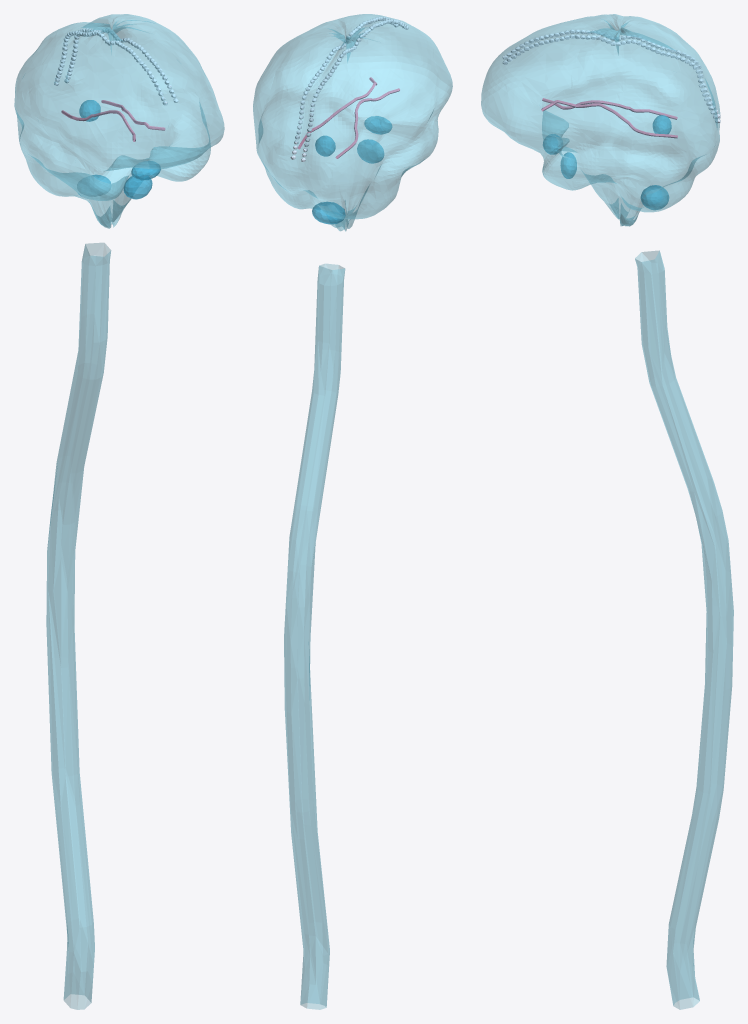
The model's file is bodyparts3d-brain-csf.glb.
3 views of the same model, side by side, from view 1: azimuth 30°, elevation 25°; view 2: azimuth 150°, elevation 25°; view 3: azimuth 270°, elevation 25° (orthographic). The views are drawn at different scales.
Parts seen in each view (by area): view 1: csf_shell, thecal_sac, cisterns, granulations, choroid; view 2: csf_shell, thecal_sac, cisterns, granulations, choroid; view 3: csf_shell, thecal_sac, granulations, cisterns, choroid.
Boxes of the visible parts, x1=… form: csf_shell: x1=14, y1=14, x2=224, y2=228; thecal_sac: x1=46, y1=243, x2=111, y2=1009; cisterns: x1=77, y1=100, x2=160, y2=199; granulations: x1=54, y1=28, x2=178, y2=105; choroid: x1=61, y1=100, x2=165, y2=141; csf_shell: x1=253, y1=14, x2=452, y2=231; thecal_sac: x1=284, y1=264, x2=345, y2=1009; cisterns: x1=312, y1=116, x2=391, y2=224; granulations: x1=290, y1=16, x2=408, y2=161; choroid: x1=298, y1=77, x2=399, y2=158; csf_shell: x1=481, y1=14, x2=720, y2=226; thecal_sac: x1=635, y1=250, x2=733, y2=1009; granulations: x1=502, y1=29, x2=720, y2=123; cisterns: x1=543, y1=115, x2=671, y2=209; choroid: x1=541, y1=98, x2=677, y2=138.
Bounding box in the file's own units: 0.1428 × 0.8296 × 0.1936.
